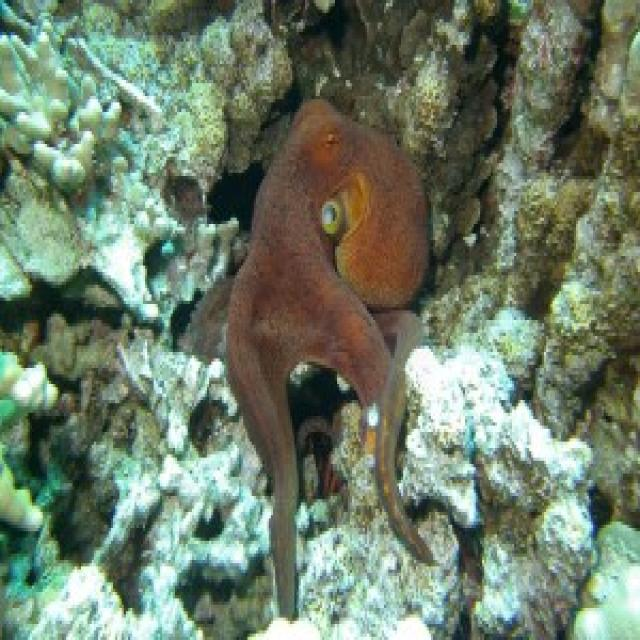Octo: (198, 112, 443, 530)
